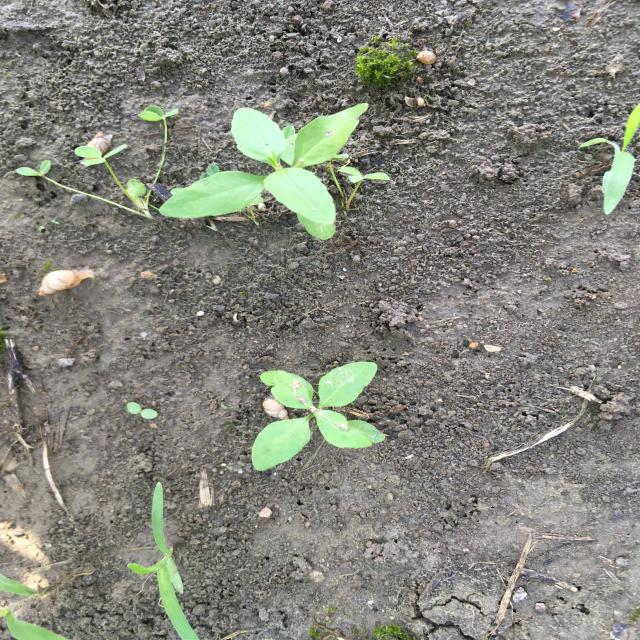Eclipta: (157, 101, 372, 241), (249, 360, 388, 473)
